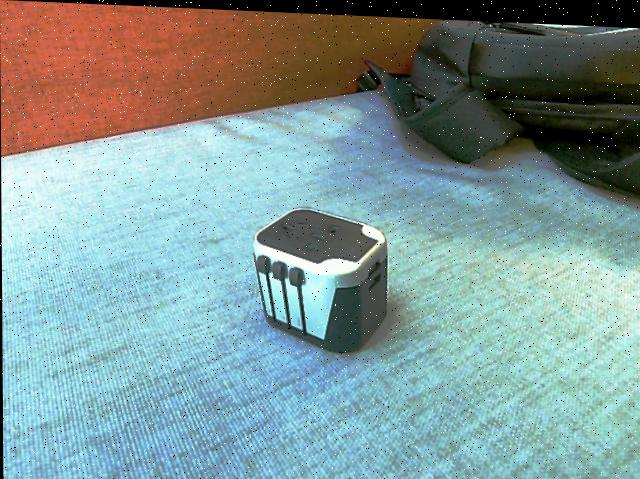adapter: (250, 202, 387, 352)
